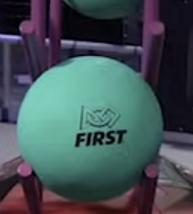algae: (17, 55, 164, 201), (63, 0, 145, 20)
